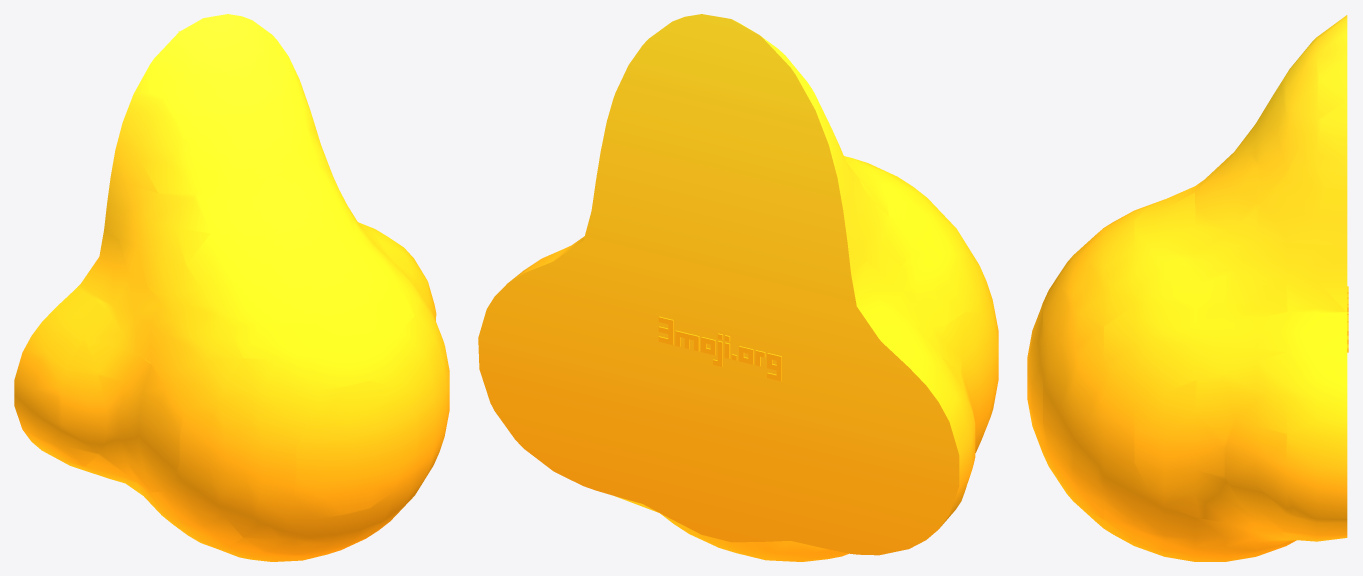
The model's file is nose.gltf.
3 renders of one model, left to right at view 1: azimuth 30°, elevation 25°; view 2: azimuth 150°, elevation 25°; view 3: azimuth 270°, elevation 25°, orthographic. The views are drawn at different scales.
Visible parts, largest first — view 1: Mball.006; view 2: Mball.006; view 3: Mball.006.
Boxes of the visible parts, box(x1,y1,x2,y2) form: Mball.006: box(14, 14, 449, 561); Mball.006: box(478, 14, 998, 561); Mball.006: box(1027, 15, 1348, 561).
Bounding box in the file's own units: 1.74 × 2.02 × 1.13.
2 materials, 2 textured.
